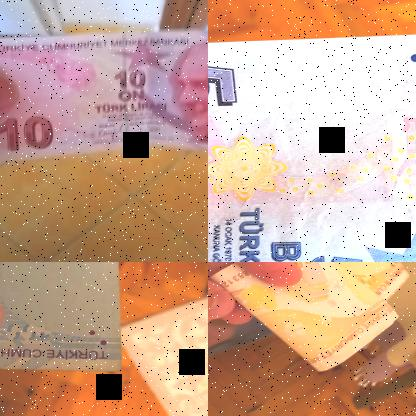5 TL: (0, 27, 207, 166)
